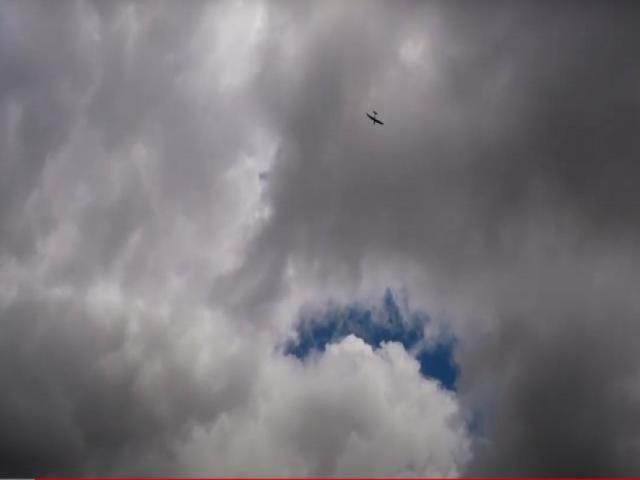iha: (363, 109, 385, 130)
